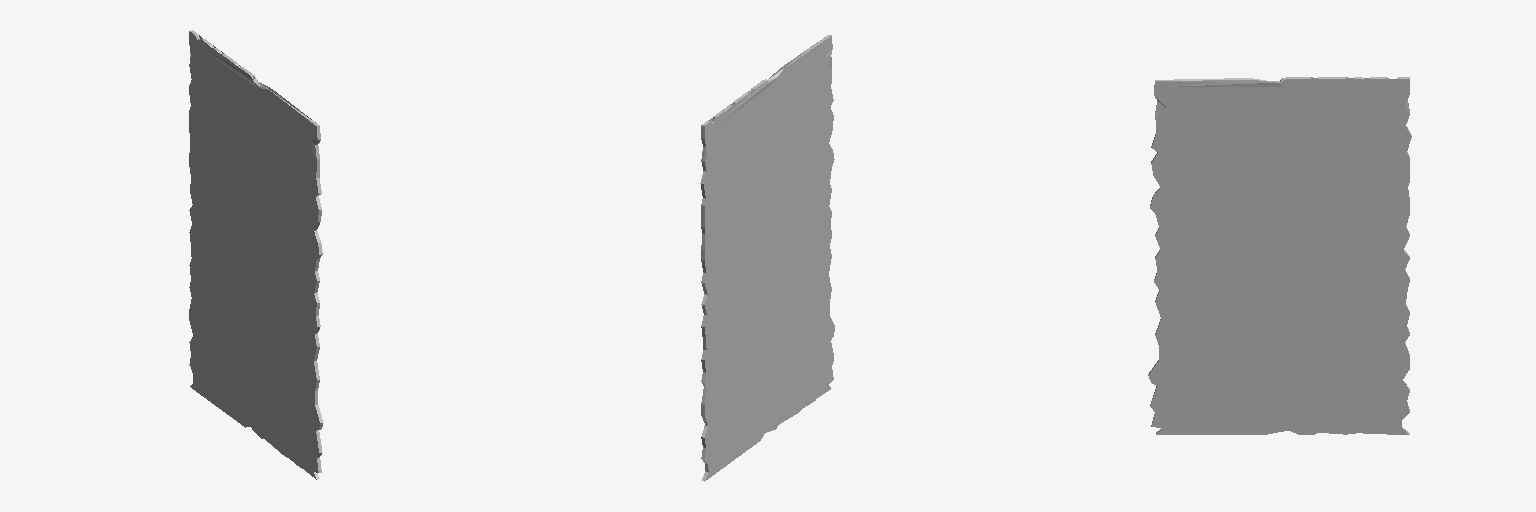
The model's file is paper.obj.
3 views of the same model, side by side, from view 1: azimuth 30°, elevation 25°; view 2: azimuth 150°, elevation 25°; view 3: azimuth 270°, elevation 25° (orthographic).
Visible parts, largest first — view 1: Cube; view 2: Cube; view 3: Cube.
Boxes of the visible parts, x1,y1,x2,y2 form: Cube: [189, 30, 323, 479]; Cube: [700, 35, 834, 481]; Cube: [1148, 77, 1411, 434].
Bounding box in the file's own units: 0.039 × 3.08 × 2.07.